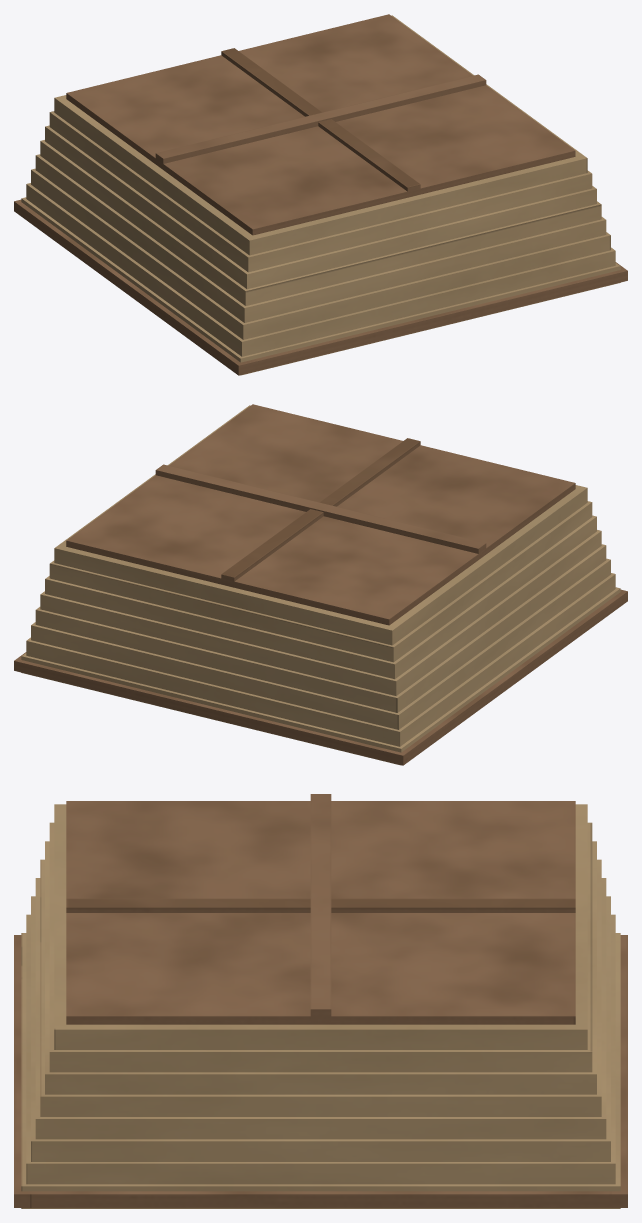
Rendered from med_roof_b.glb.
The picture shows the model from 3 angles, top to bottom: view 1: azimuth 30°, elevation 25°; view 2: azimuth 150°, elevation 25°; view 3: azimuth 270°, elevation 25°; orthographic projection. The views are drawn at different scales.
Parts seen in each view (by area): view 1: med_roof_b; view 2: med_roof_b; view 3: med_roof_b.
Part boxes in pixels (left/top/right/bottom): med_roof_b: left=14, top=14, right=627, bottom=375; med_roof_b: left=14, top=404, right=627, bottom=765; med_roof_b: left=14, top=794, right=627, bottom=1208.
Size of the model in its own units: 4.1 by 1.33 by 4.1.
Materials: 1 (1 with a texture image).
